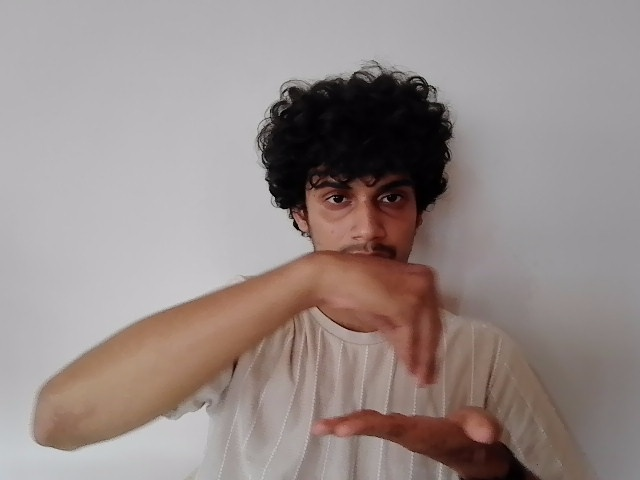learn: (302, 254, 503, 459)
